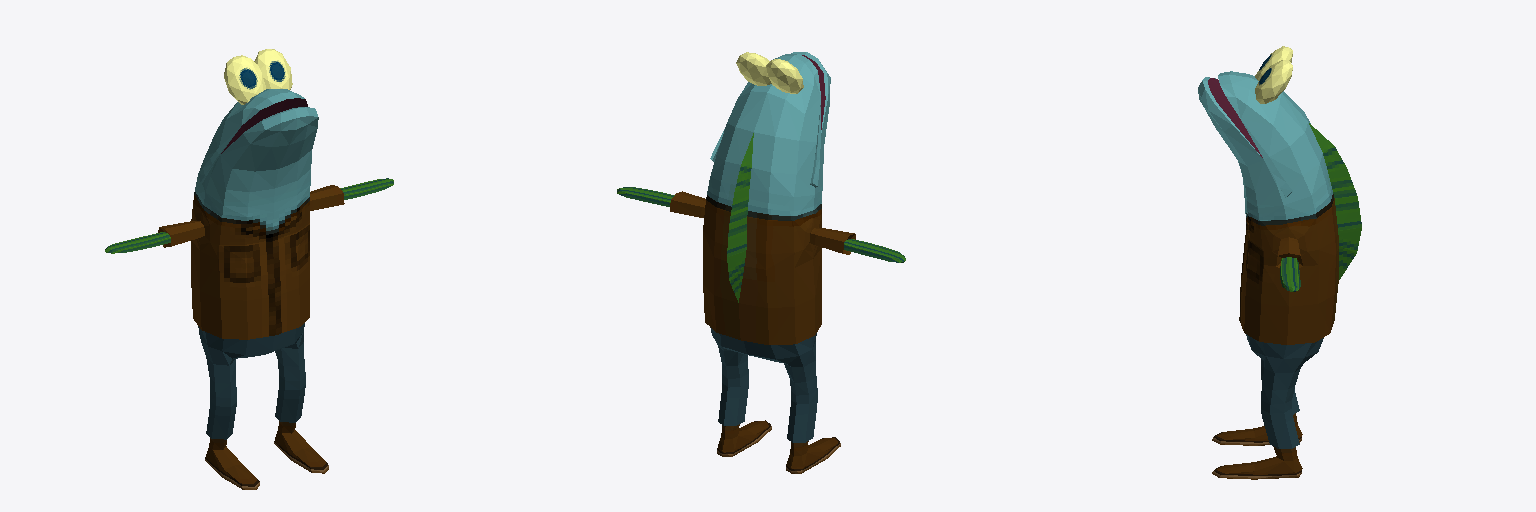
3 views of the same model, side by side, from view 1: azimuth 30°, elevation 25°; view 2: azimuth 150°, elevation 25°; view 3: azimuth 270°, elevation 25° (orthographic).
Parts seen in each view (by area): view 1: Material_#31; view 2: Material_#31; view 3: Material_#31.
Part boxes in pixels (x1,y1,x2,y2): Material_#31: (105, 49, 393, 489); Material_#31: (617, 52, 905, 473); Material_#31: (1198, 46, 1361, 479).
Size of the model in its own units: 8.02 by 10.62 by 3.94.
Materials: 1 (1 with a texture image).